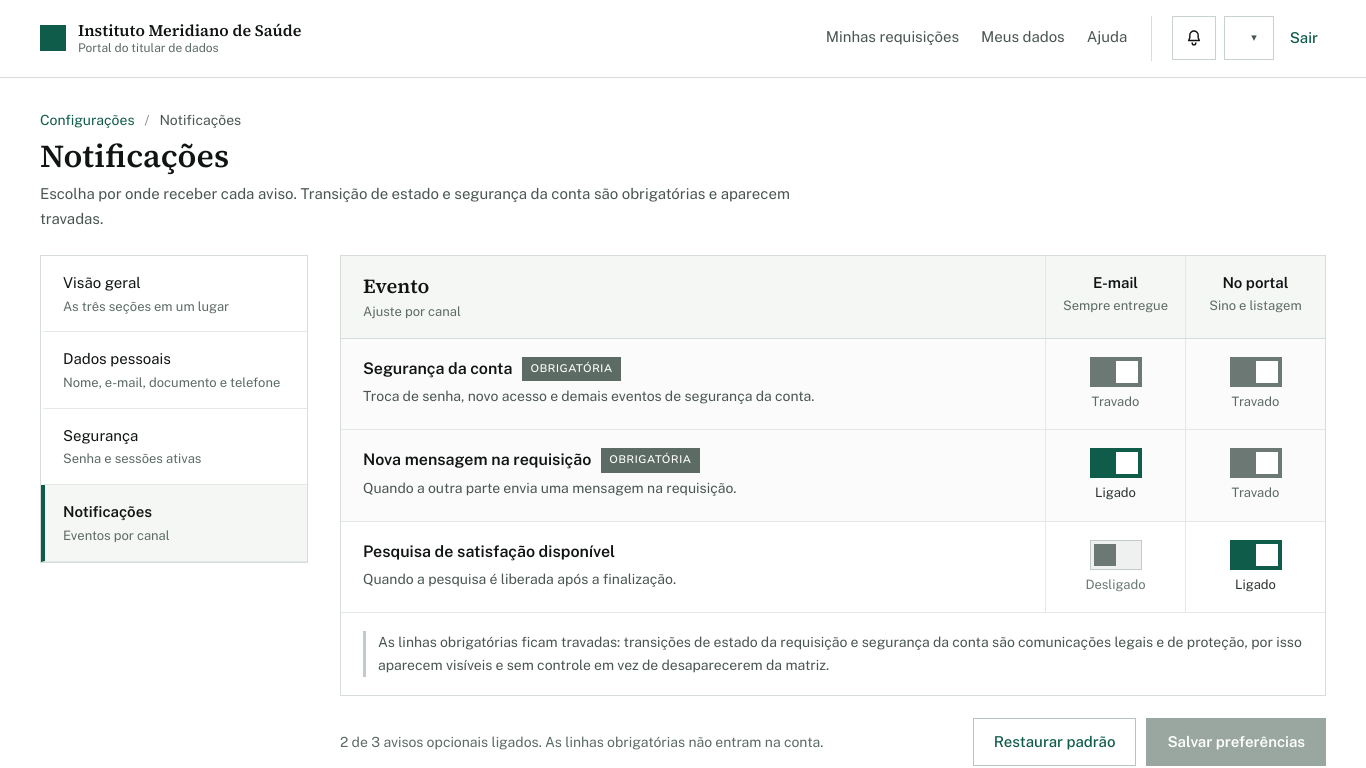
Scenario: NotificationSettingsView › só habilita salvar depois de uma mudança e conta o que falta salvar
The image size is (1366, 768).
Expected: the button "Salvar preferências" is disabled, top-left (1146, 718), bottom-right (1326, 766)
Click the switch named "E-mail para Nova mensagem na requisição" at (1116,463), box top-left (1090, 448), bottom-right (1142, 478)
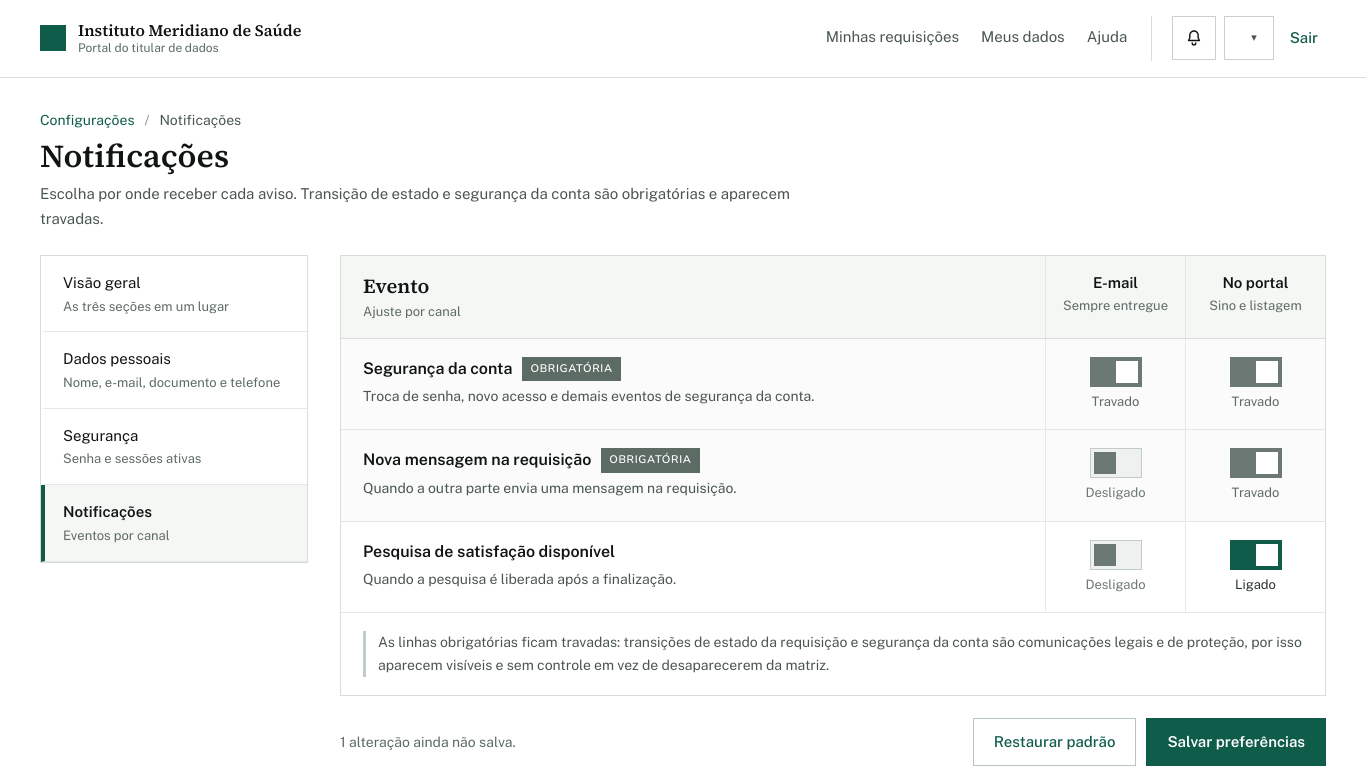
Result: the text "1 alteração ainda não salva." is shown at top-left (340, 732), bottom-right (516, 752)
Result: the button "Salvar preferências" is enabled at top-left (1146, 718), bottom-right (1326, 766)
